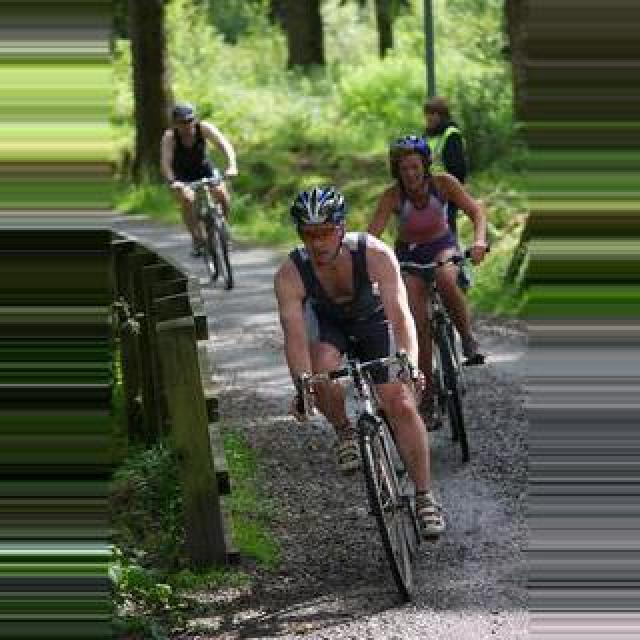MC-Bike: (274, 186, 448, 540), (368, 136, 490, 390), (162, 102, 236, 268), (420, 96, 468, 186)
Person: (292, 342, 444, 600), (400, 259, 476, 465), (172, 178, 234, 288)
